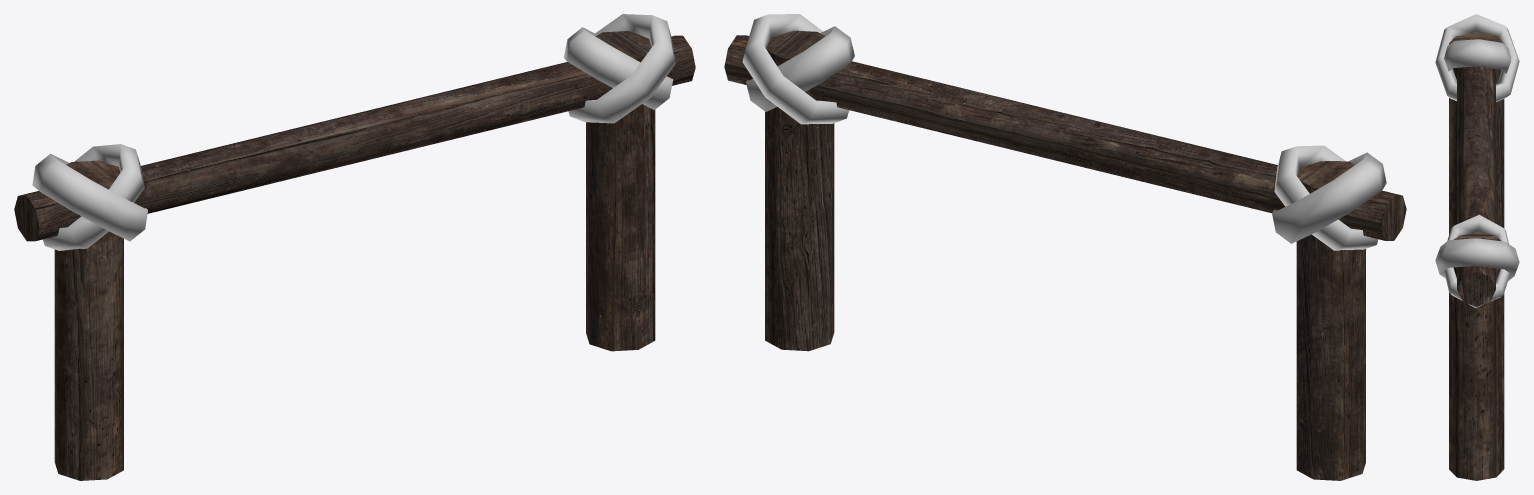
Rendered from P_Ladder02.FBX.
3 views of the same model, side by side, from view 1: azimuth 30°, elevation 25°; view 2: azimuth 150°, elevation 25°; view 3: azimuth 270°, elevation 25° (orthographic). The views are drawn at different scales.
Visible parts, largest first — view 1: P_Ladder02; view 2: P_Ladder02; view 3: P_Ladder02.
Part boxes in pixels (left/top/right/bottom): P_Ladder02: left=14, top=14, right=695, bottom=480; P_Ladder02: left=724, top=14, right=1406, bottom=480; P_Ladder02: left=1435, top=14, right=1519, bottom=480.
Bounding box in the file's own units: 99.57 × 45.52 × 14.32.
